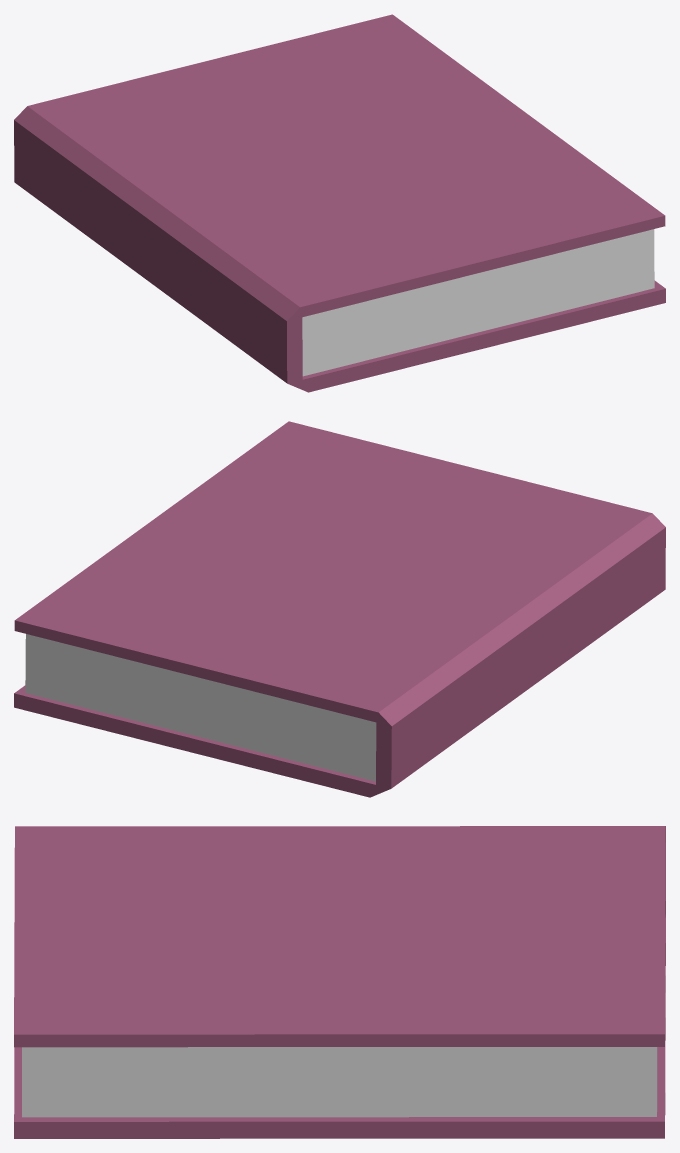
Rendered from Libro suelto.fbx.
3 views of the same model, one above another, from view 1: azimuth 30°, elevation 25°; view 2: azimuth 150°, elevation 25°; view 3: azimuth 270°, elevation 25° (orthographic). The views are drawn at different scales.
Parts seen in each view (by area): view 1: Escritorio en L.001; view 2: Escritorio en L.001; view 3: Escritorio en L.001.
Part boxes in pixels (x1,y1,x2,y2): Escritorio en L.001: (14,14,665,392); Escritorio en L.001: (14,421,665,797); Escritorio en L.001: (14,826,665,1138).
Bounding box in the file's own units: 0.2437 × 0.0558 × 0.3048.
